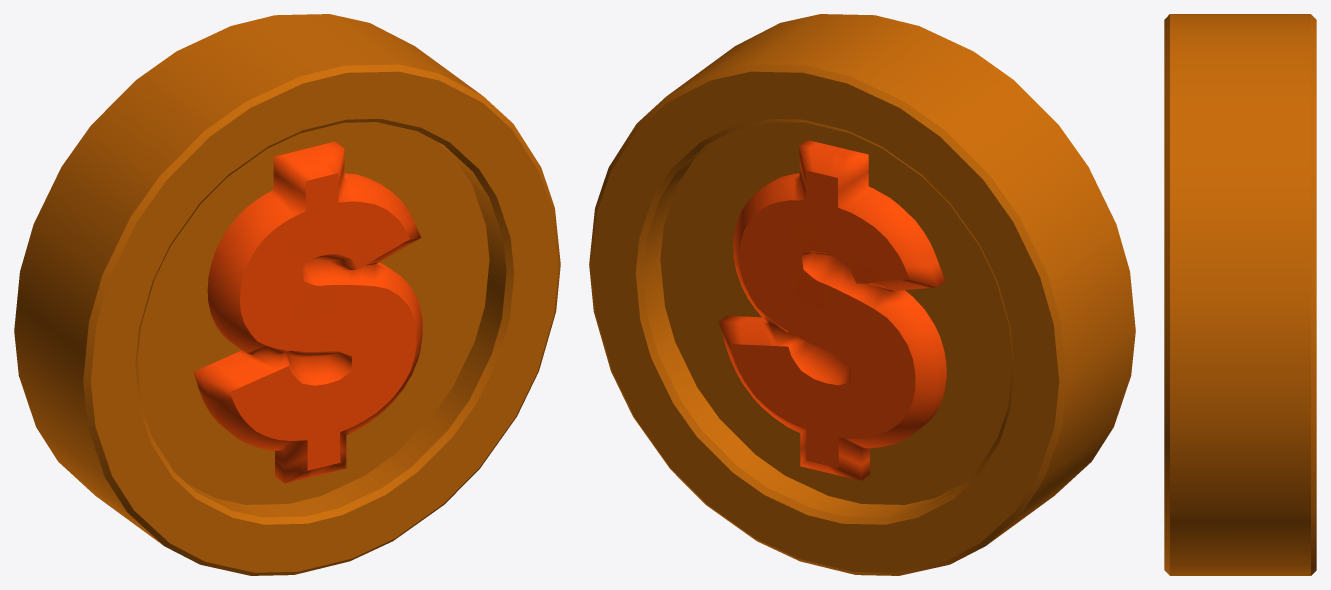
The model's file is Item_Coin.fbx.
3 renders of one model, left to right at view 1: azimuth 30°, elevation 25°; view 2: azimuth 150°, elevation 25°; view 3: azimuth 270°, elevation 25°, orthographic. The views are drawn at different scales.
Parts seen in each view (by area): view 1: Item_Coin; view 2: Item_Coin; view 3: Item_Coin.
Part boxes in pixels (x1,y1,x2,y2): Item_Coin: [14, 14, 560, 575]; Item_Coin: [589, 14, 1135, 575]; Item_Coin: [1164, 14, 1316, 575].
Bounding box in the file's own units: 19.7 × 19.59 × 5.33.
